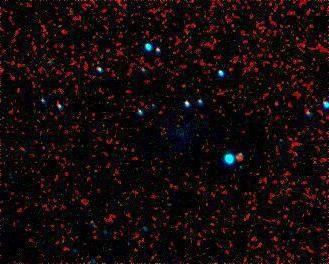star: (227, 142, 257, 172)
